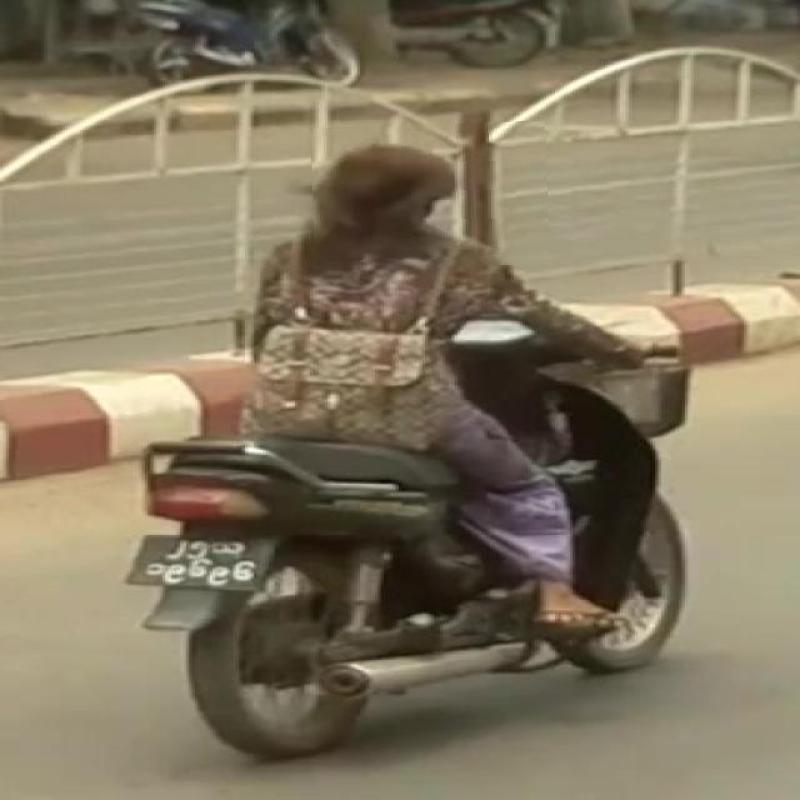nohelmet: (311, 122, 548, 259)
